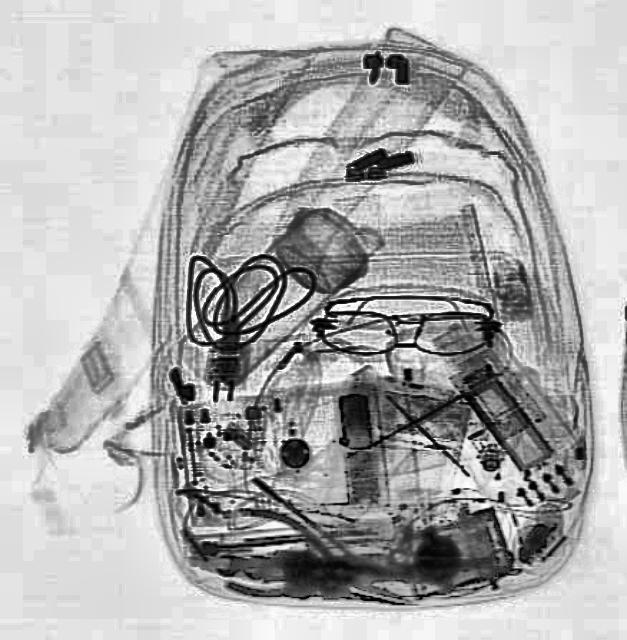Pliers: (218, 500, 426, 638)
Wrench: (212, 551, 326, 585)
